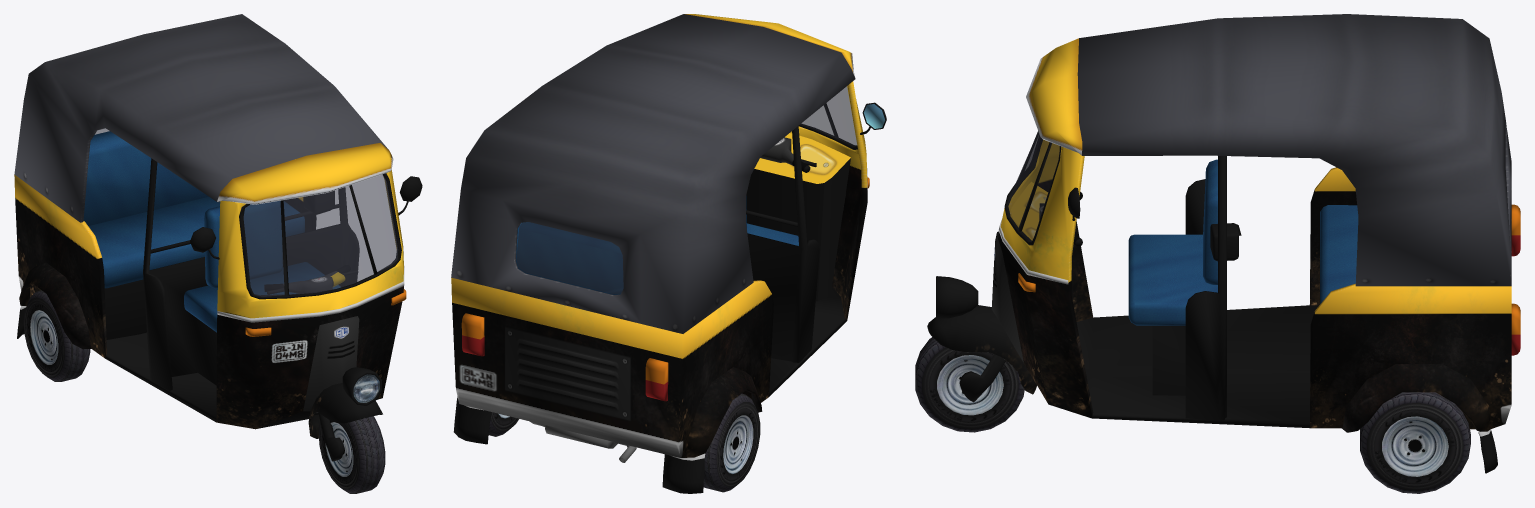
The model's file is autorickshaw.fbx.
3 views of the same model, side by side, from view 1: azimuth 30°, elevation 25°; view 2: azimuth 150°, elevation 25°; view 3: azimuth 270°, elevation 25° (orthographic). The views are drawn at different scales.
Visible parts, largest first — view 1: Plane.001, Plane, Cylinder, Plane.003, Cylinder.001, Plane.005, Plane.004, Plane.010, Cylinder.002, Sphere, Plane.006, Cylinder.003 (+2 smaller); view 2: Plane.001, Plane, Cylinder, Plane.002, Plane.003, Cylinder.001, Plane.004, Plane.012, Plane.006, Plane.005, Plane.008, Cylinder.003; view 3: Plane.001, Plane, Cylinder, Cylinder.001, Plane.004, Plane.005, Cylinder.002, Plane.003, Sphere, Plane.006, Plane.010, Plane.002 (+1 smaller).
Part boxes in pixels (x1,y1,x2,y2): Plane.001: (14, 14, 388, 222); Plane: (14, 170, 403, 429); Cylinder: (83, 131, 359, 390); Plane.003: (95, 128, 398, 296); Cylinder.001: (23, 290, 385, 493); Plane.005: (217, 143, 393, 204); Plane.004: (19, 262, 90, 349); Plane.010: (239, 173, 401, 299); Cylinder.002: (308, 383, 382, 438); Sphere: (315, 367, 381, 461); Plane.006: (190, 176, 422, 336); Cylinder.003: (264, 264, 357, 294); Plane.001: (451, 14, 855, 333); Plane: (451, 81, 867, 457); Cylinder: (516, 126, 819, 362); Plane.002: (746, 133, 850, 301); Plane.003: (516, 86, 857, 294); Cylinder.001: (488, 393, 760, 492); Plane.004: (687, 367, 762, 457); Plane.012: (453, 396, 705, 493); Plane.006: (461, 102, 886, 401); Plane.005: (685, 14, 855, 77); Plane.008: (529, 421, 636, 462); Cylinder.003: (760, 137, 816, 172); Plane.001: (1077, 14, 1511, 286); Plane: (991, 140, 1511, 429); Cylinder: (1128, 156, 1358, 420); Cylinder.001: (915, 337, 1470, 493); Plane.004: (1342, 364, 1491, 432); Plane.005: (1026, 38, 1082, 155); Cylinder.002: (927, 305, 1036, 394); Plane.003: (1008, 132, 1059, 241); Sphere: (936, 276, 1011, 402); Plane.006: (1018, 187, 1520, 355); Plane.010: (1004, 131, 1061, 245); Plane.002: (1011, 182, 1072, 299).
Bounding box in the file's own units: 164 × 198 × 297.
4 materials, 3 textured.
